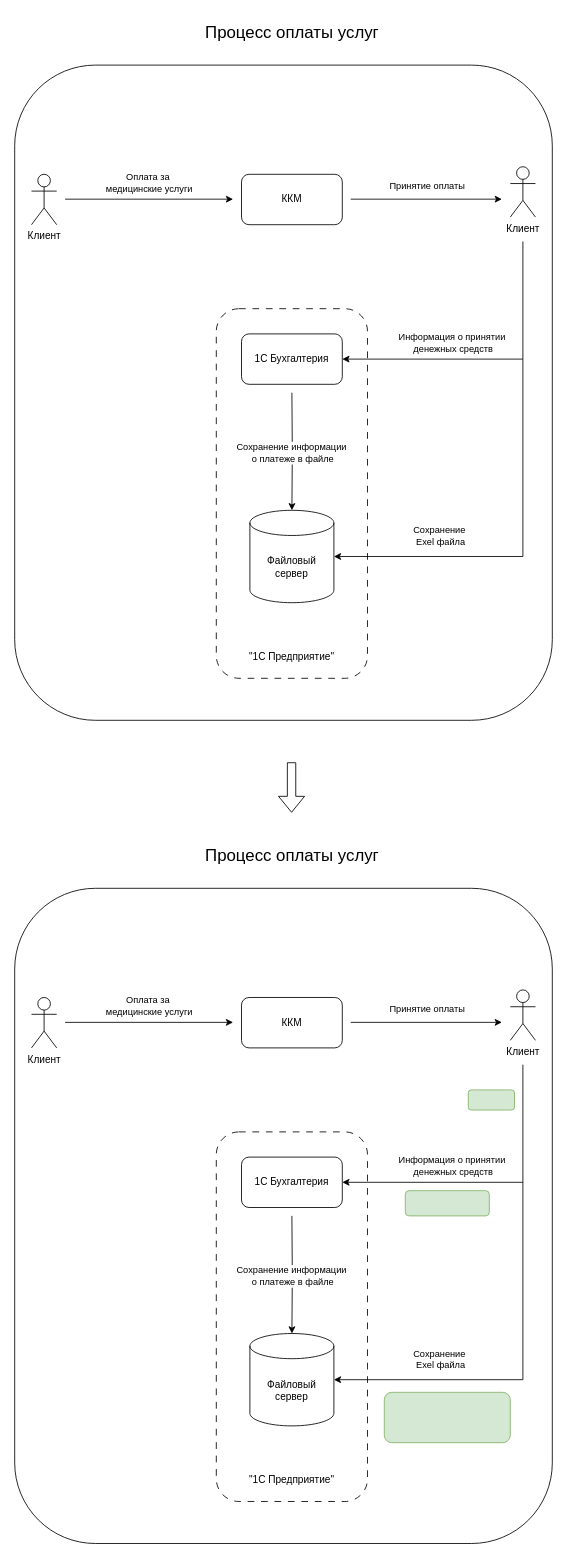
This 567x1558 diagram has some shape labels left out. The shapes that lost their labels are listed below. From the top down, each one's centre as x and y in pixels, then its label:
At (490,1099): "Теги".
At (446,1203): "Шифрование".
At (446,1417): "1. Шифрование 2. Логирование 3. RBAC".
